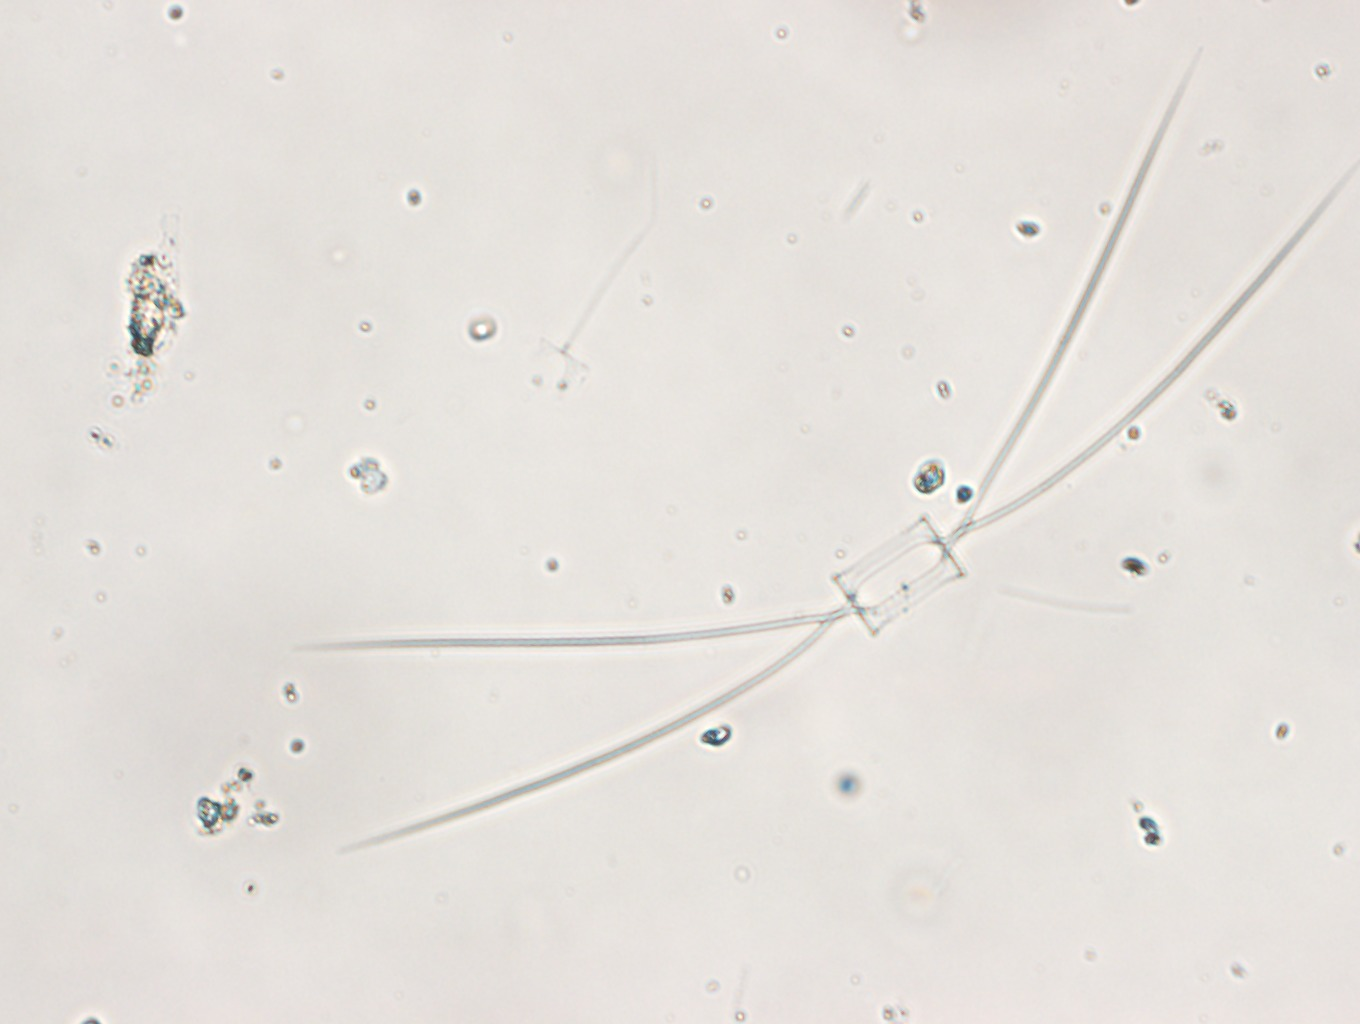chaetoceros: (315, 28, 1360, 863)
